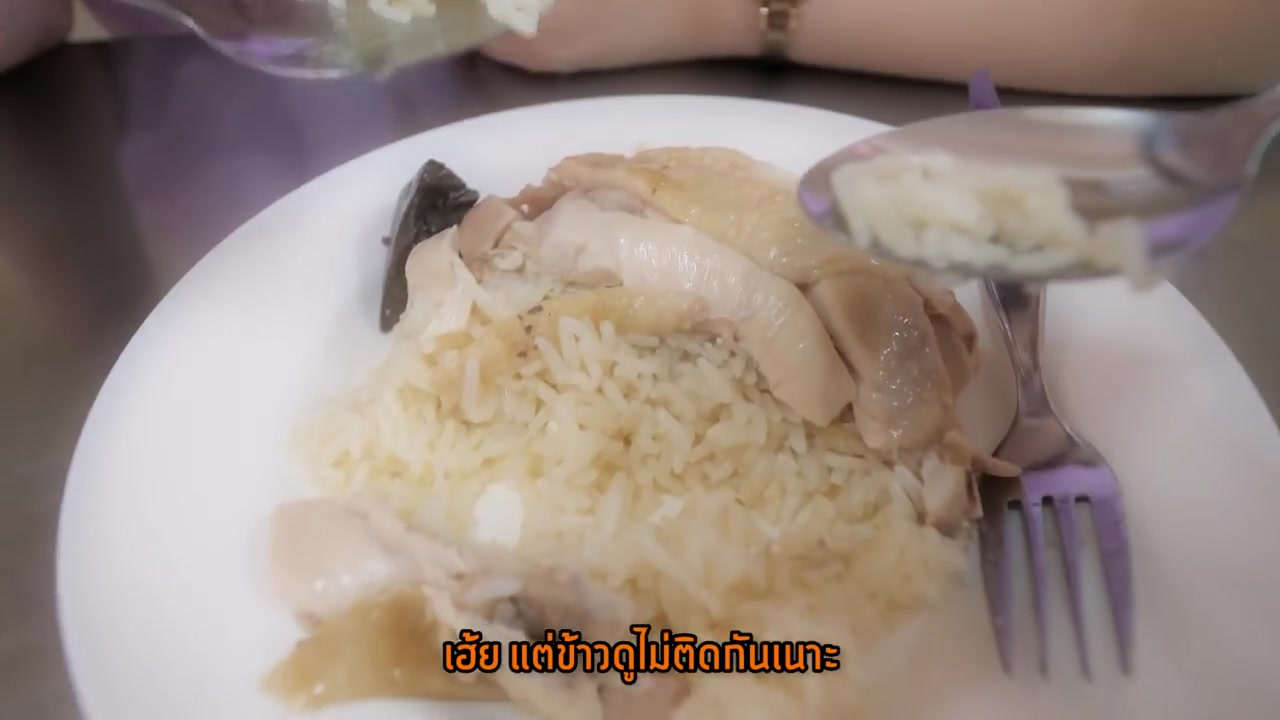text-label: (436, 617, 842, 686)
